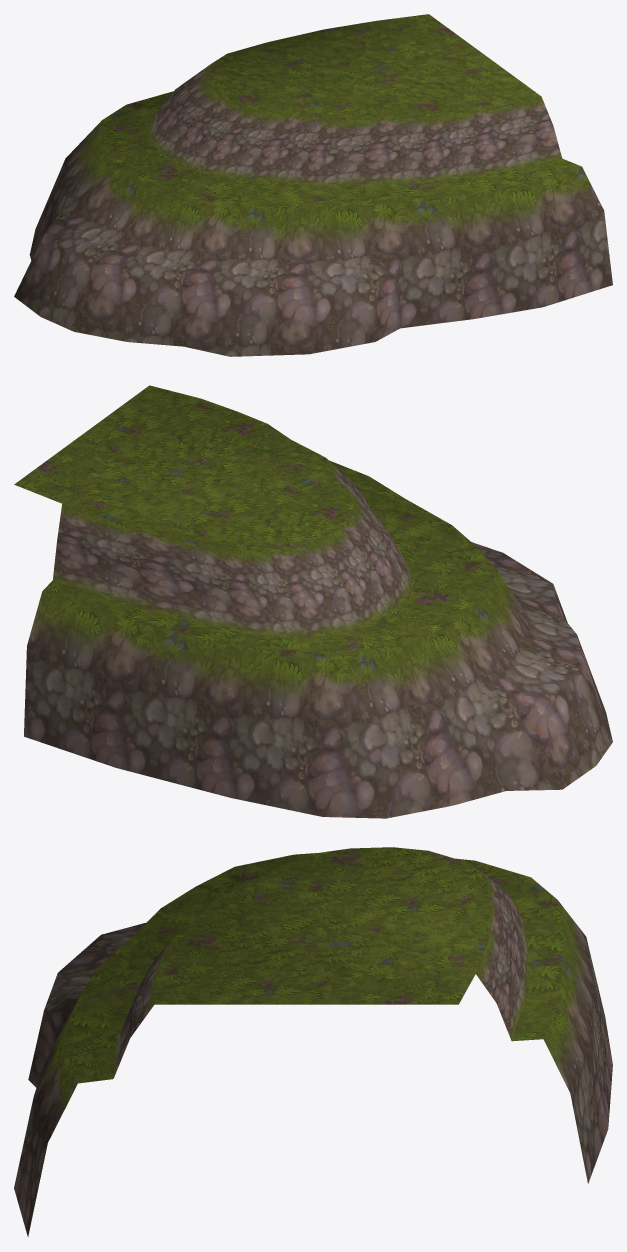
Rendered from Town004_NewTerrain_06.FBX.
3 views of the same model, one above another, from view 1: azimuth 30°, elevation 25°; view 2: azimuth 150°, elevation 25°; view 3: azimuth 270°, elevation 25° (orthographic). The views are drawn at different scales.
Parts seen in each view (by area): view 1: Town004_NewTerrain_05; view 2: Town004_NewTerrain_05; view 3: Town004_NewTerrain_05.
Boxes of the visible parts, x1,y1,x2,y2 form: Town004_NewTerrain_05: (14, 14, 612, 356); Town004_NewTerrain_05: (14, 385, 612, 818); Town004_NewTerrain_05: (14, 847, 612, 1236).
Bounding box in the file's own units: 3209 × 1084 × 2674.
Materials: 2 (2 with a texture image).
